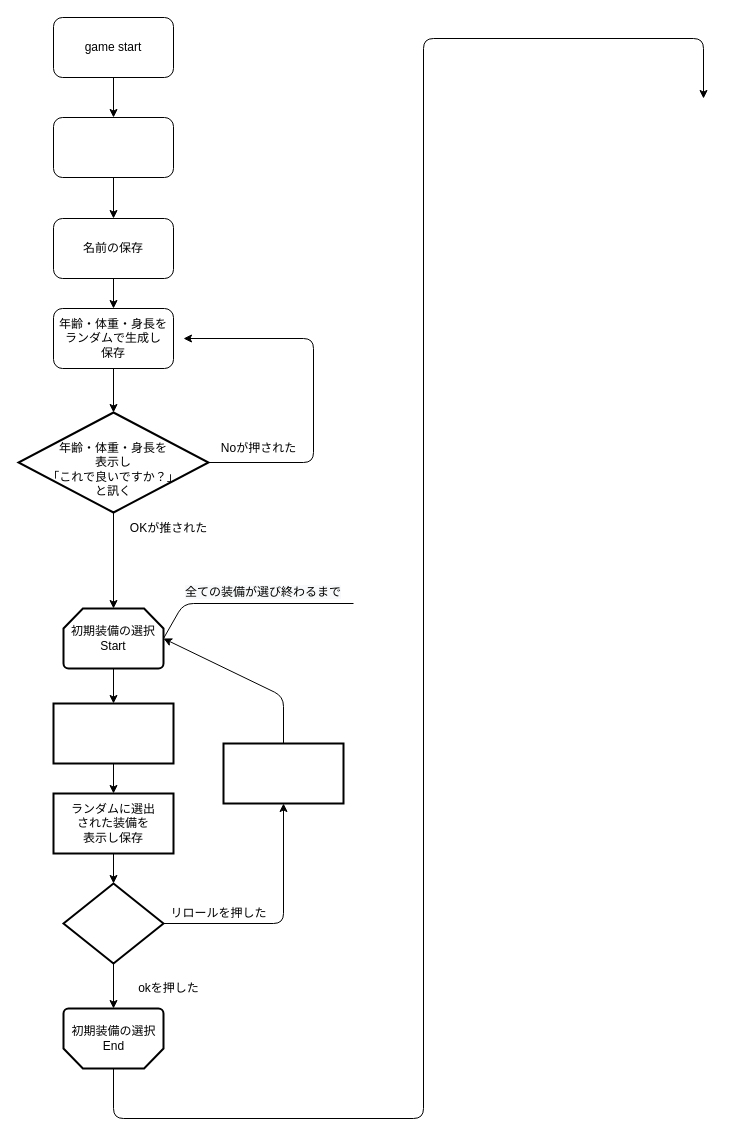
The diagram is 729 pixels wide and 1144 high, and some of its shapes have lost their labels. The shapes that lost their labels are listed below. From the top down, each one's centre as x and y in pixels, then its label:
pixel 113 147: 名前入力
pixel 113 733: (リロールの数を リセットする)
pixel 283 773: リロールの数を 1減らす
pixel 113 923: リロールか OKを押す
